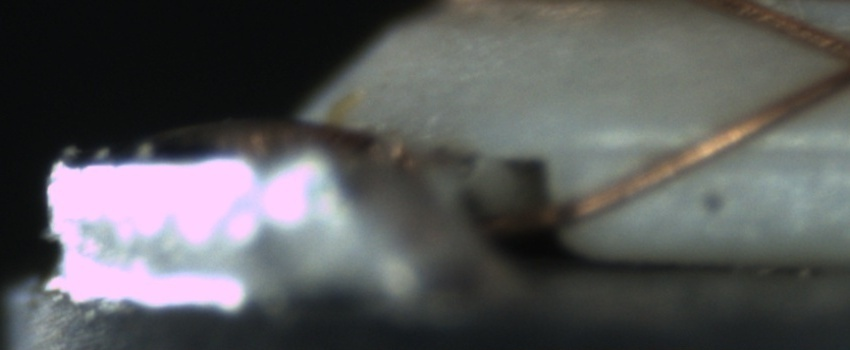DL: (567, 117, 850, 182)
